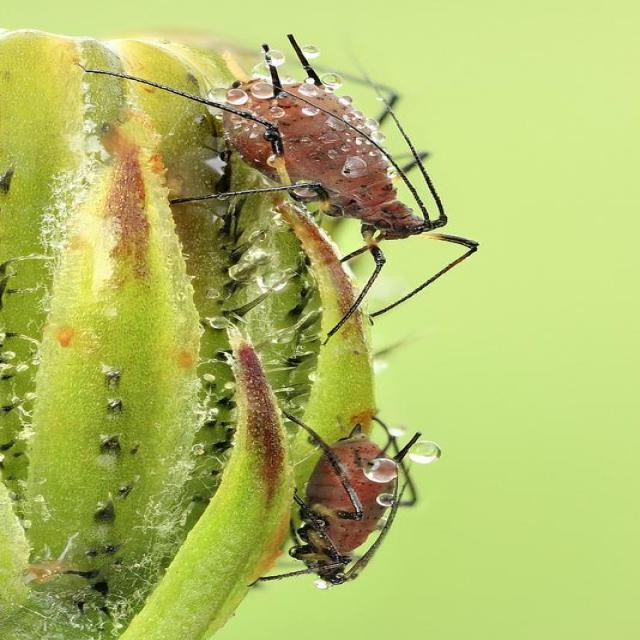aphid: (162, 61, 497, 336), (252, 402, 452, 600)
